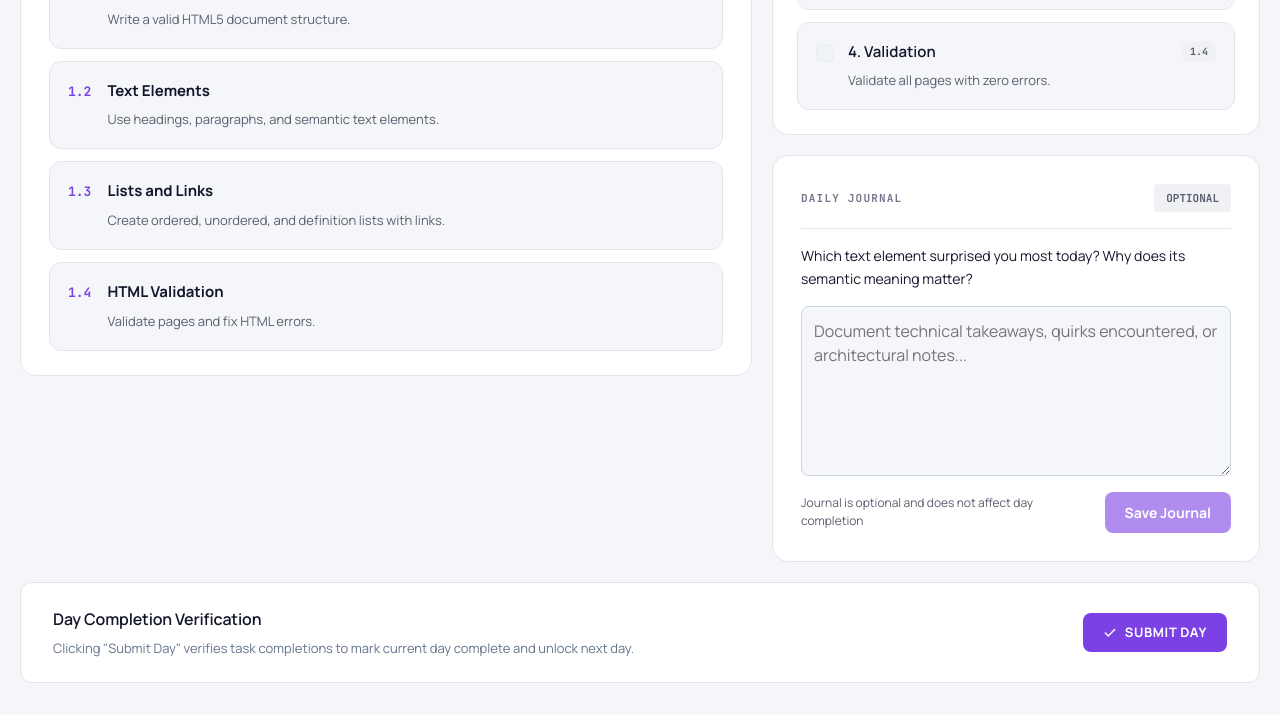
Test case: DayOverviewPage: daily journal › saves the text for this day and shows "Saved successfully"
The width and height of the screenshot is (1280, 715).
(page scrolled)
expect the button "Save Journal" is shown: met, box [1105,492,1231,533]
Replace the text in the text box with "Learned Prisma" at (1016, 391), box [801,306,1231,476]
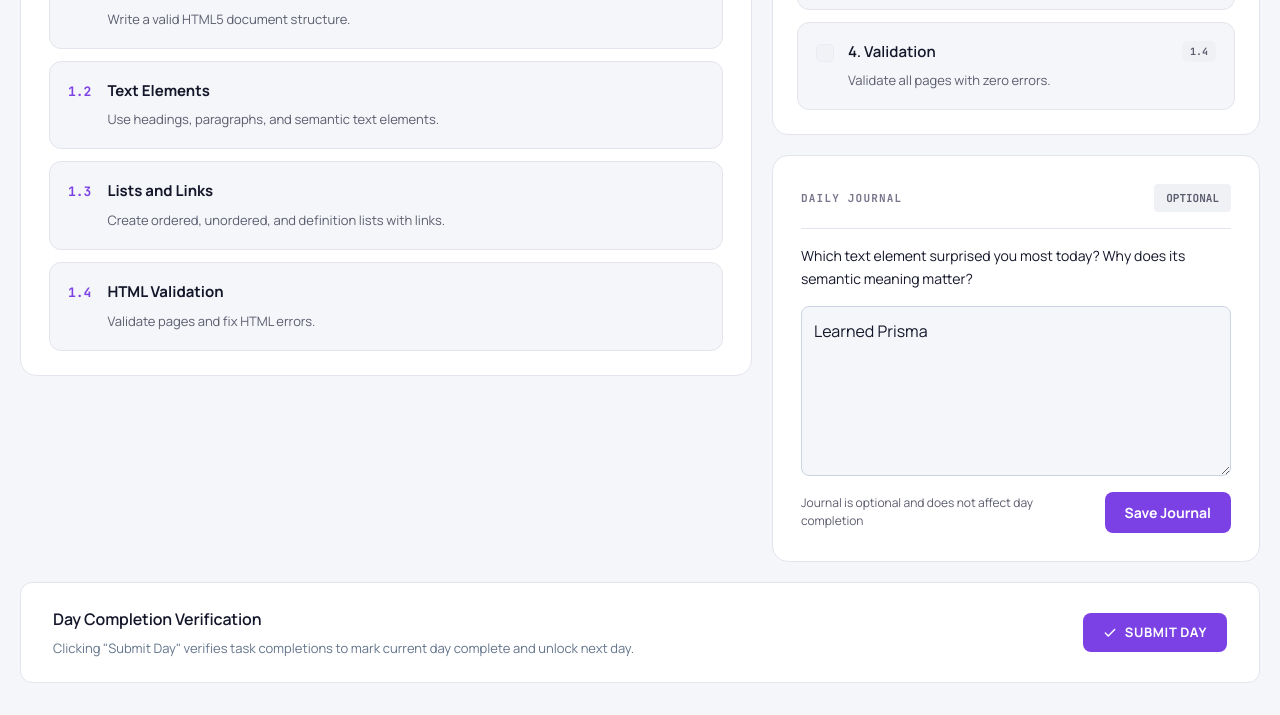
Click the button "Save Journal".
click(1168, 512)  # box [1105,492,1231,533]
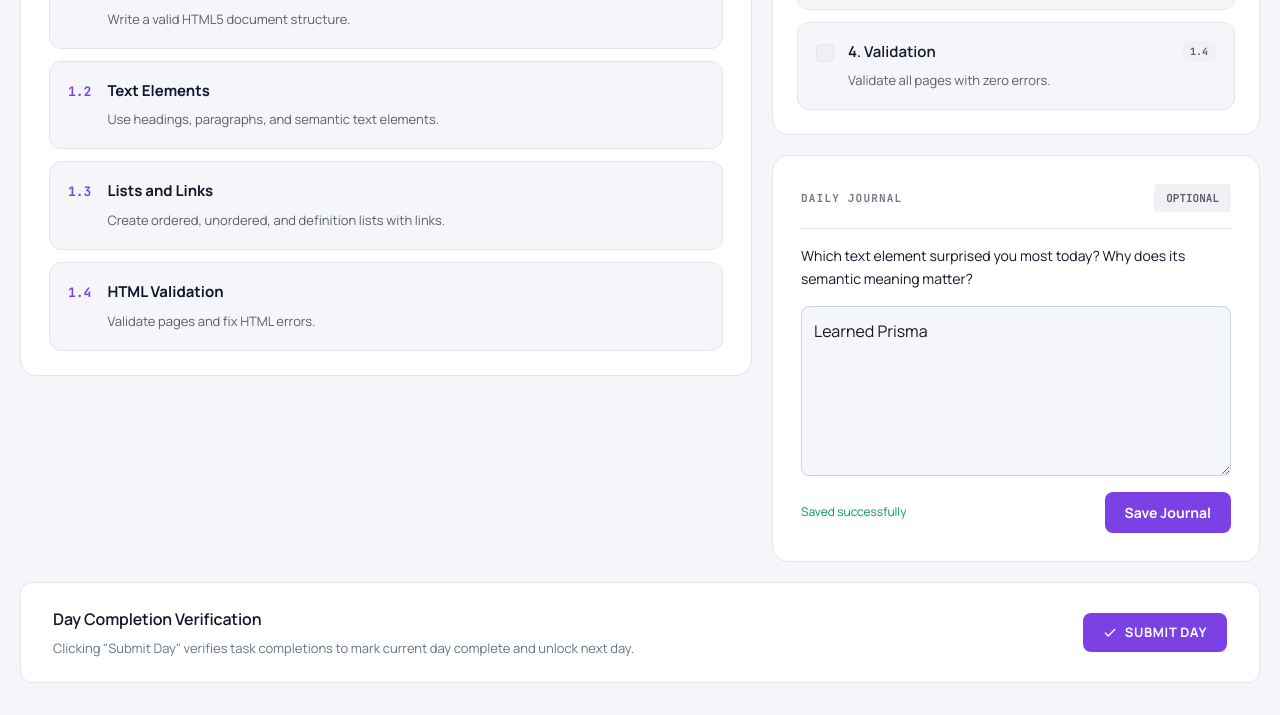
expect the text "Saved successfully" is shown: met, box [801,504,906,522]
